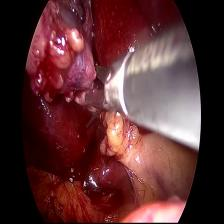Scissors: (82, 49, 132, 121)
